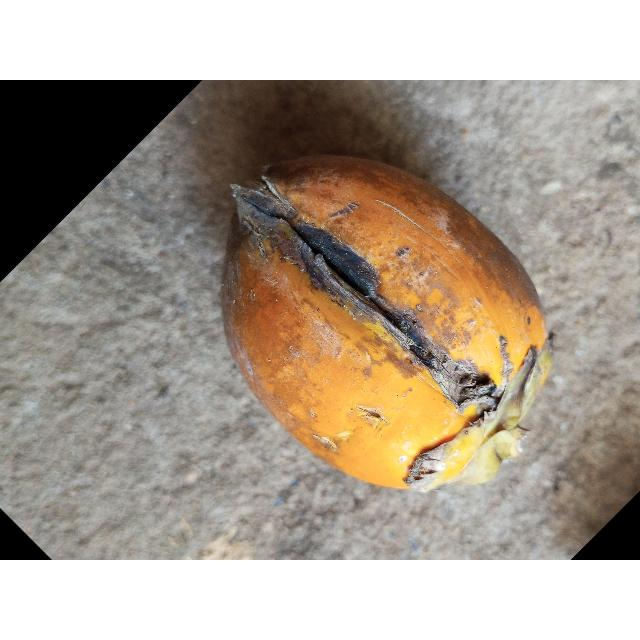damaged: (223, 156, 553, 491)
